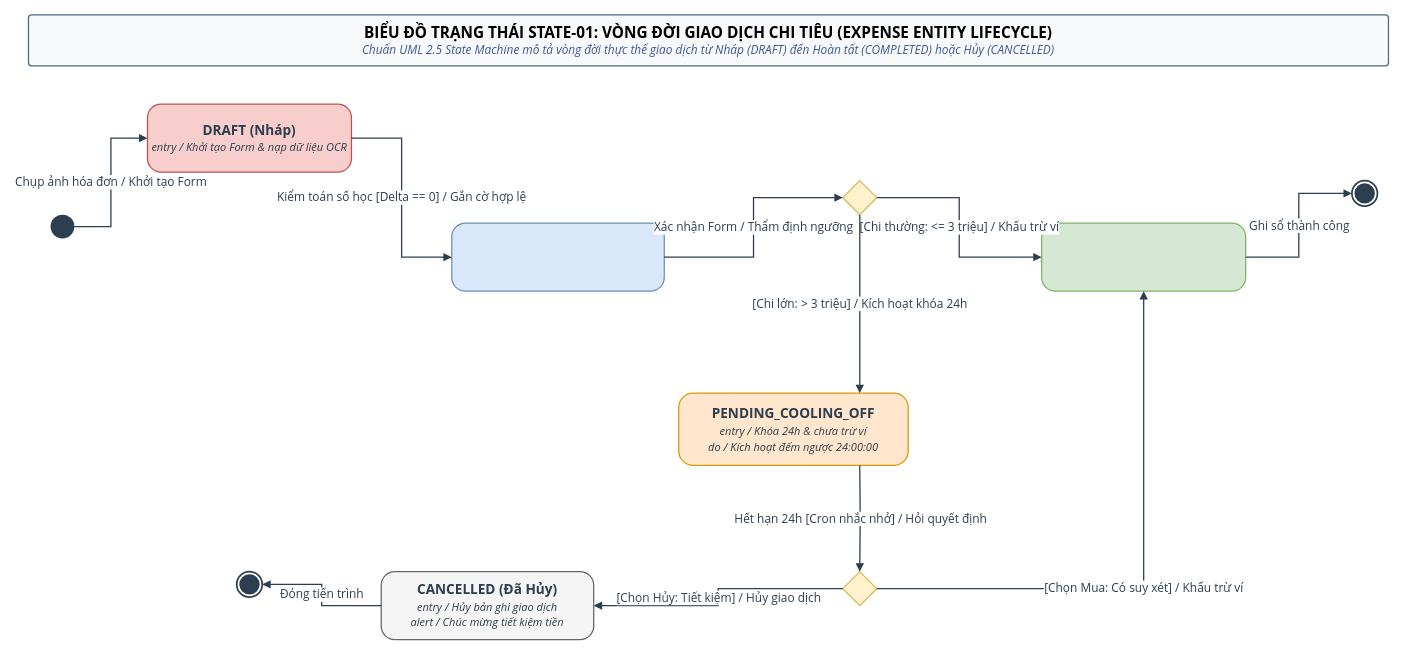
Image size: 1403x655. Some labels were removed from this diagram. The shapes that lost their labels are listed below. From the top down, each one's centre as x and y in pixels, then its label:
At (558,256): "VERIFIED (Đã Xác Minh) entry / Đối soát số học khớp Delta=0".
At (1143,256): "COMPLETED (Hoàn Tất) entry / Khấu trừ tiền ví & ghi sổ cái".
